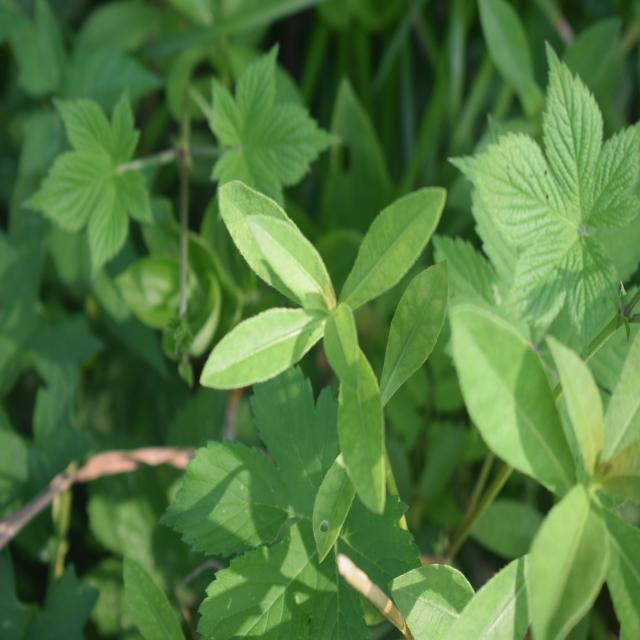Alligatorweed: (204, 174, 442, 538)
